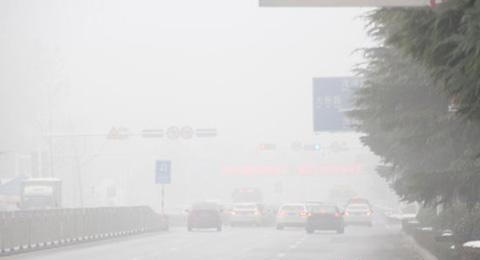bus: (16, 177, 64, 224), (230, 185, 264, 218)
car: (184, 199, 224, 231), (306, 204, 345, 233), (275, 201, 312, 230), (229, 200, 264, 228), (343, 201, 374, 225)
